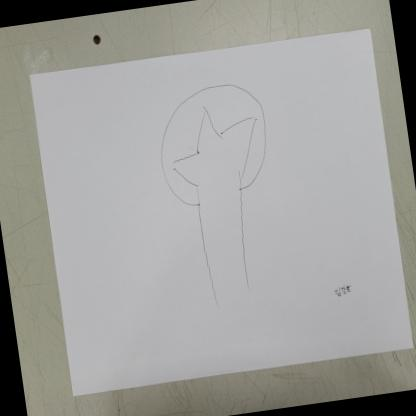branch_sharp: (164, 98, 264, 183)
crown_mushroom: (151, 74, 275, 210)
trunk_straight: (192, 199, 254, 281)
